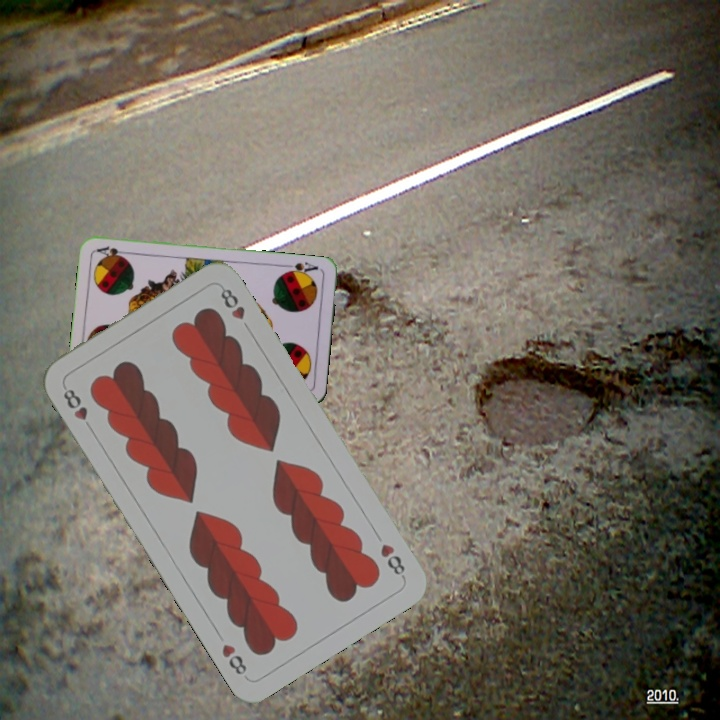H8: (59, 385, 95, 434), (376, 539, 408, 582)
SA: (281, 258, 320, 278)
